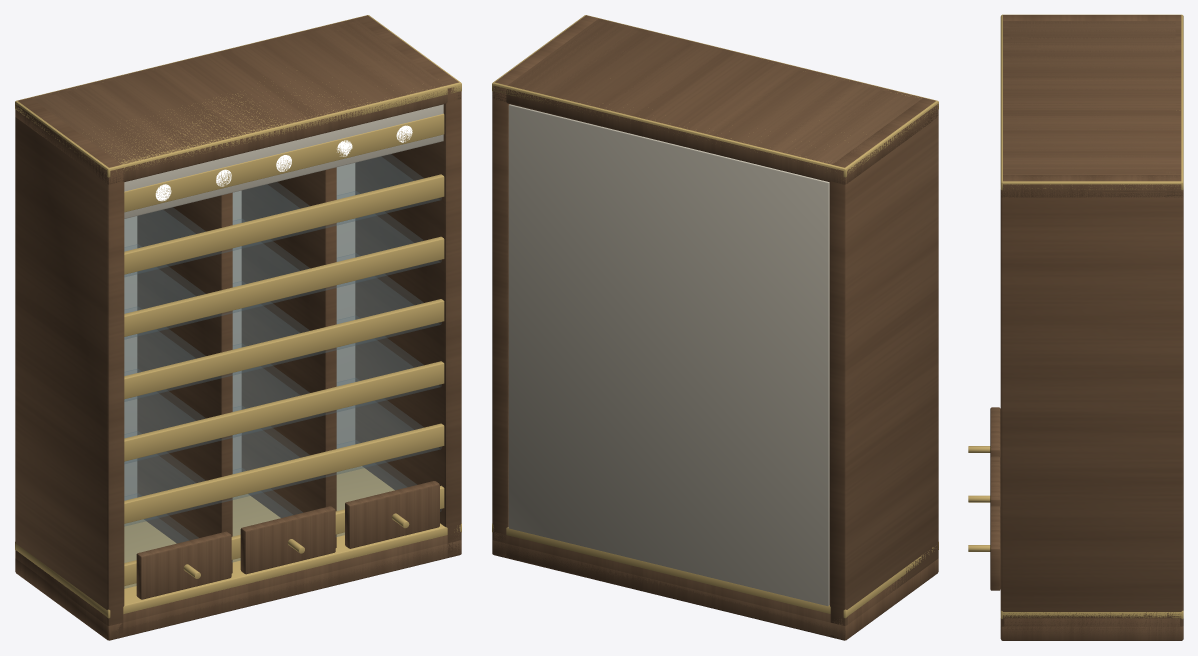
File: pf_display_impulse_shelf_t5.glb
3 views of the same model, side by side, from view 1: azimuth 30°, elevation 25°; view 2: azimuth 150°, elevation 25°; view 3: azimuth 270°, elevation 25° (orthographic). The views are drawn at different scales.
Parts seen in each view (by area): view 1: Case_Left, Case_Right, Crown_Main, Case_Top, Millwork_Divider_01, Millwork_Divider_02, Plinth_Trim, Case_Back, Shelf_05, Shelf_02, Shelf_04, Shelf_03 (+16 smaller); view 2: Case_Back, Case_Left, Case_Top, Crown_Main, Case_Right, Plinth_Base, Case_Base, Plinth_Trim, Crown_Trim; view 3: Case_Right, Case_Top, Crown_Main, Case_Base, Plinth_Base, Crown_Trim, Case_Left, Plinth_Trim, Drawer_Front_03, Drawer_Front_02, Drawer_Front_01.
Part boxes in pixels (bbox=[...]): Case_Left: bbox=[15, 97, 124, 640]; Case_Right: bbox=[355, 15, 461, 557]; Crown_Main: bbox=[33, 20, 441, 162]; Case_Top: bbox=[15, 18, 461, 184]; Millwork_Divider_01: bbox=[137, 192, 232, 573]; Millwork_Divider_02: bbox=[241, 167, 336, 547]; Plinth_Trim: bbox=[15, 466, 461, 618]; Case_Back: bbox=[124, 163, 355, 500]; Shelf_05: bbox=[124, 191, 441, 339]; Shelf_02: bbox=[124, 378, 441, 526]; Shelf_04: bbox=[124, 253, 441, 401]; Shelf_03: bbox=[124, 316, 441, 463]; Case_Back: bbox=[508, 104, 829, 606]; Case_Left: bbox=[829, 97, 938, 640]; Case_Top: bbox=[492, 18, 938, 184]; Crown_Main: bbox=[512, 20, 919, 161]; Case_Right: bbox=[492, 15, 598, 557]; Plinth_Base: bbox=[494, 532, 907, 637]; Case_Base: bbox=[492, 540, 938, 640]; Plinth_Trim: bbox=[492, 523, 938, 618]; Crown_Trim: bbox=[492, 15, 938, 177]; Case_Right: bbox=[1000, 175, 1183, 639]; Case_Top: bbox=[1001, 21, 1183, 197]; Crown_Main: bbox=[1008, 21, 1175, 174]; Case_Base: bbox=[1000, 626, 1183, 640]; Plinth_Base: bbox=[1004, 618, 1179, 638]; Crown_Trim: bbox=[1000, 14, 1183, 190]; Case_Left: bbox=[1003, 15, 1181, 20]; Plinth_Trim: bbox=[1000, 610, 1183, 619]; Drawer_Front_03: bbox=[990, 506, 1000, 590]; Drawer_Front_02: bbox=[990, 456, 1000, 507]; Drawer_Front_01: bbox=[990, 407, 1000, 457].
Size of the model in its own units: 1.35 by 1.72 by 0.73.
6 materials, 1 textured.
